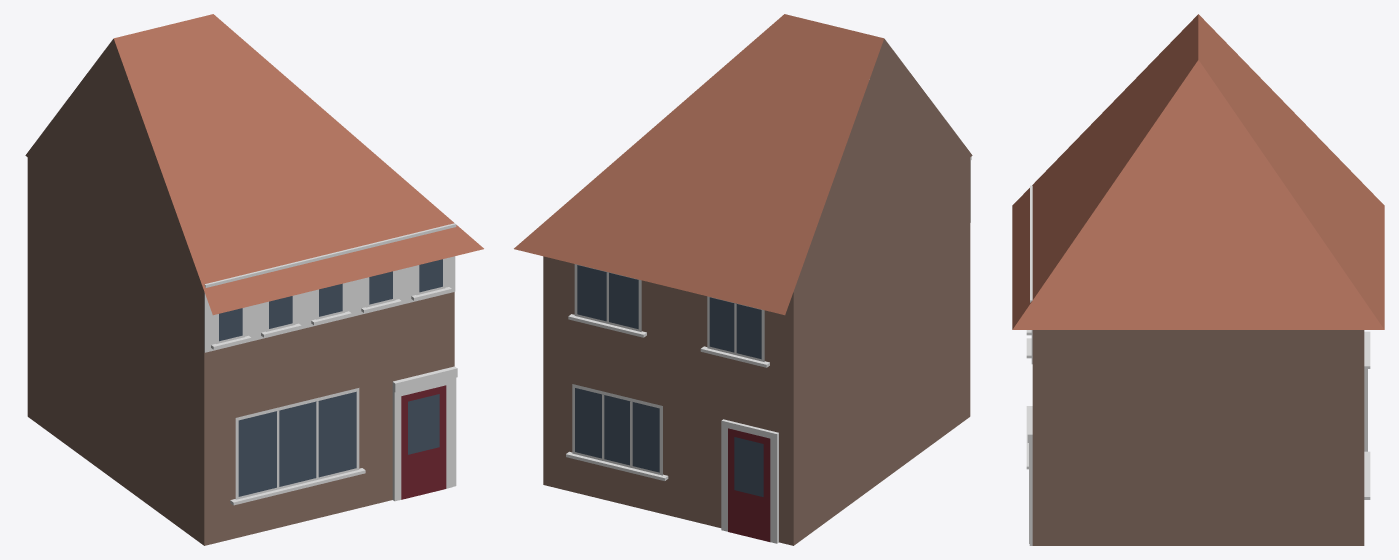
Rendered from nn-band__band__2__hip__long__solid__endR__mirror.glb.
3 views of the same model, side by side, from view 1: azimuth 30°, elevation 25°; view 2: azimuth 150°, elevation 25°; view 3: azimuth 270°, elevation 25° (orthographic). The views are drawn at different scales.
Parts seen in each view (by area): view 1: nn-band__band__2__hip__long__solid__endR__mirror; view 2: nn-band__band__2__hip__long__solid__endR__mirror; view 3: nn-band__band__2__hip__long__solid__endR__mirror.
Part boxes in pixels (<box>): nn-band__band__2__hip__long__solid__endR__mirror: <box>25,14,483,545</box>; nn-band__band__2__hip__long__solid__endR__mirror: <box>514,14,972,545</box>; nn-band__band__2__hip__long__solid__endR__mirror: <box>1012,14,1384,545</box>.
Bounding box in the file's own units: 5.76 × 8.98 × 7.29.
